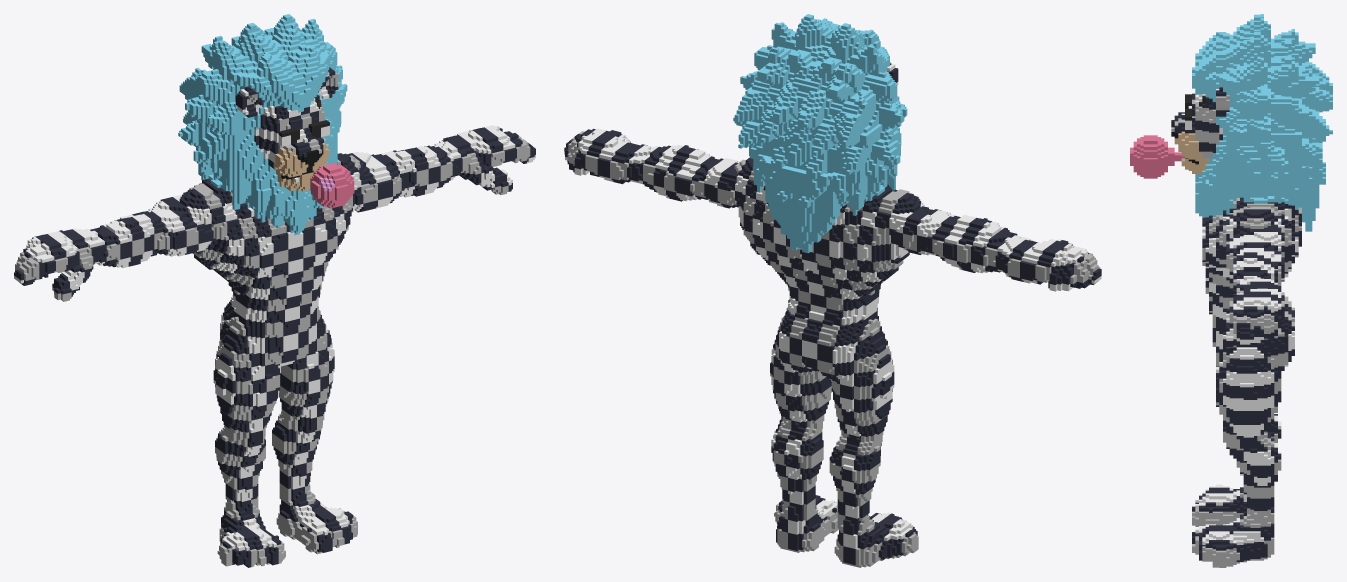
3 renders of one model, left to right at view 1: azimuth 30°, elevation 25°; view 2: azimuth 150°, elevation 25°; view 3: azimuth 270°, elevation 25°, orthographic. The views are drawn at different scales.
Parts seen in each view (by area): view 1: bubble_gum; view 2: bubble_gum; view 3: bubble_gum.
Part boxes in pixels (x1=…): bubble_gum: x1=14, y1=14, x2=535, y2=567; bubble_gum: x1=564, y1=14, x2=1101, y2=567; bubble_gum: x1=1130, y1=14, x2=1332, y2=567.
Size of the model in its own units: 17.2 by 16.5 by 5.9.
Materials: 4 (4 with a texture image).
